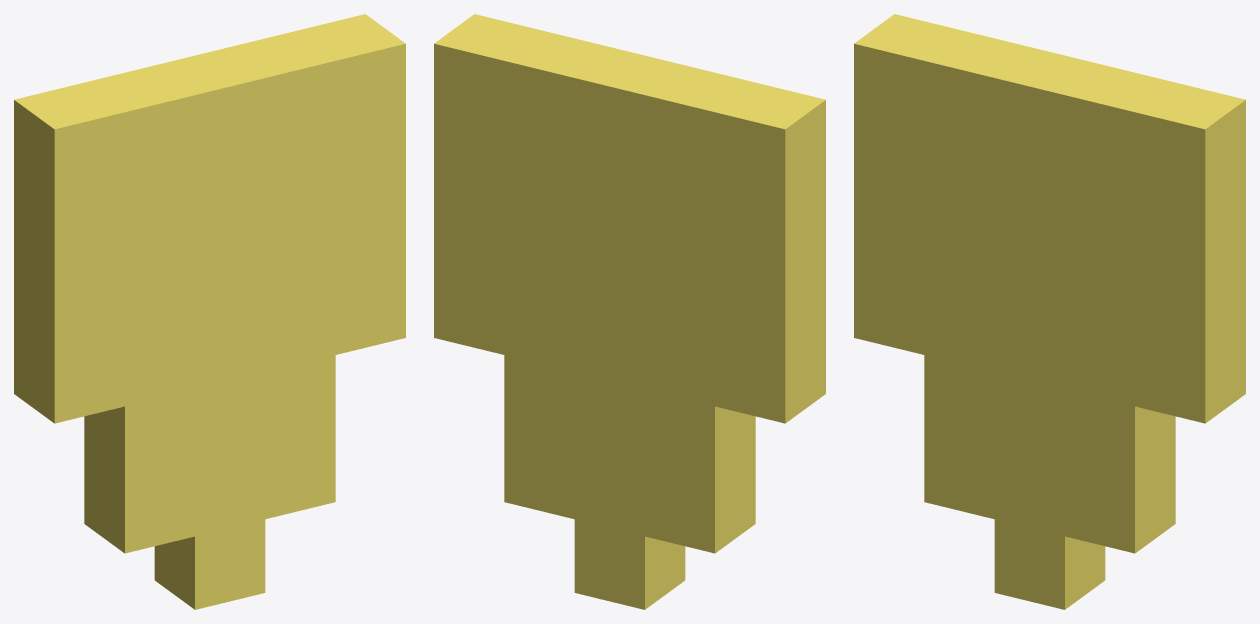
The model's file is Shield-Small-Yellow.vox.obj.
The picture shows the model from 3 angles, left to right: view 1: azimuth 30°, elevation 25°; view 2: azimuth 150°, elevation 25°; view 3: azimuth 330°, elevation 25°; orthographic projection.
Bounding box in the file's own units: 0.5 × 0.7 × 0.1.
Materials: 1 (1 with a texture image).
